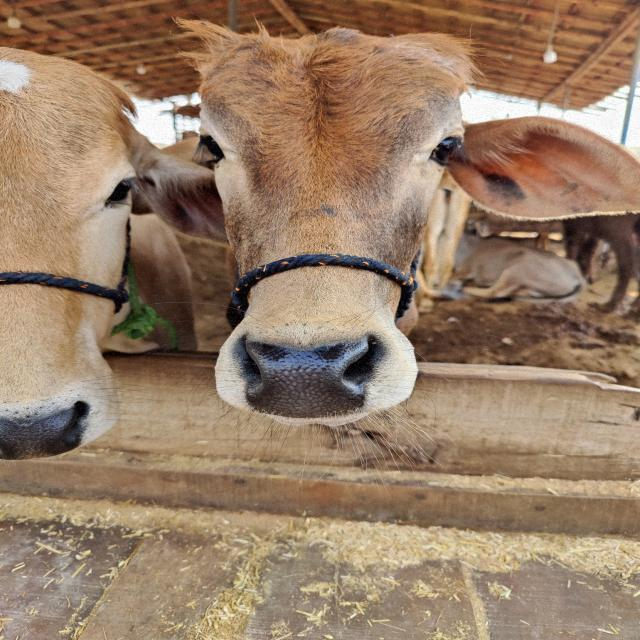muzzles: (228, 323, 388, 418), (0, 399, 94, 463)
